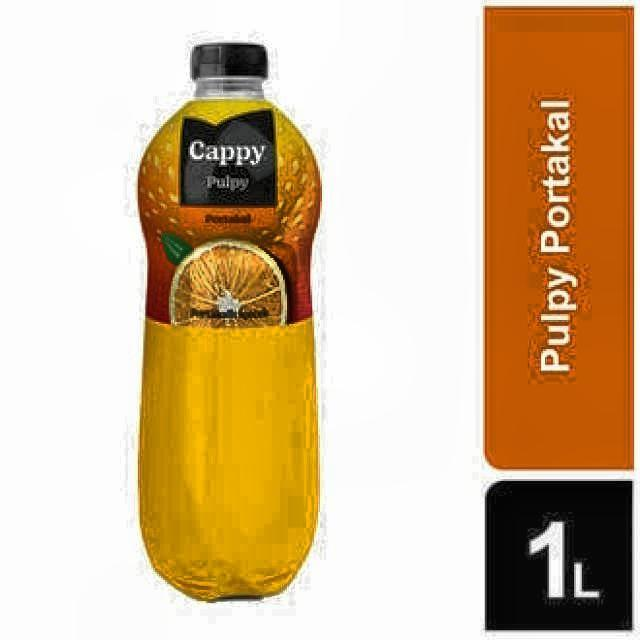plastic: (137, 43, 322, 605)
